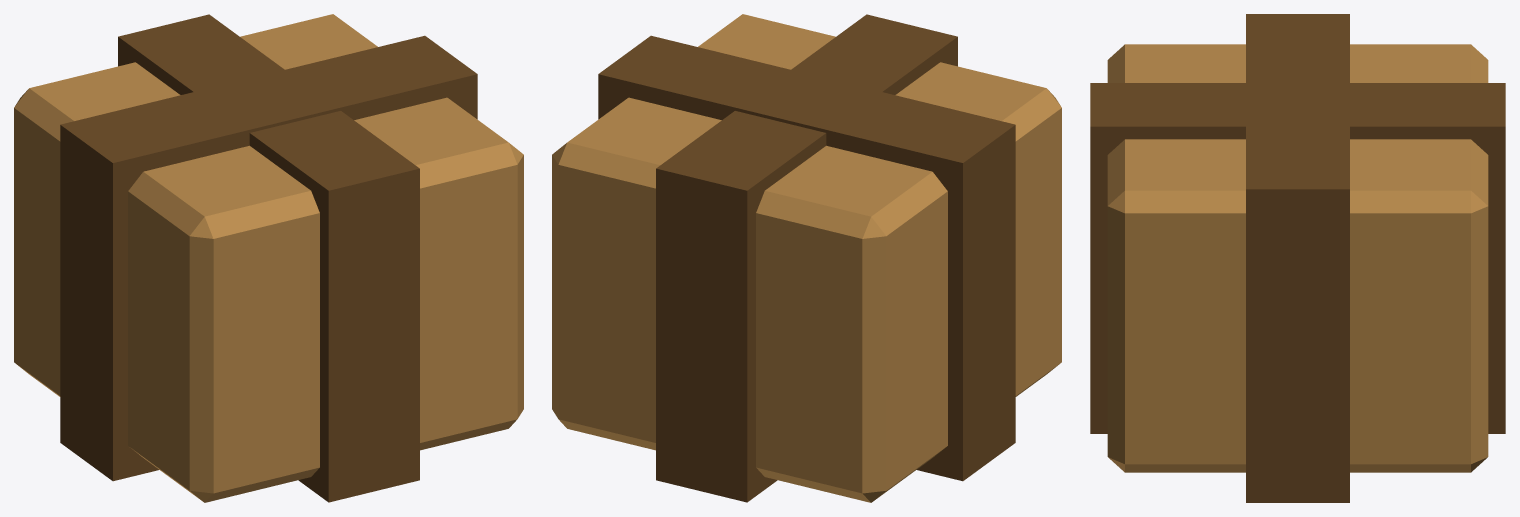
The model's file is crate.glb.
The picture shows the model from 3 angles, left to right: view 1: azimuth 30°, elevation 25°; view 2: azimuth 150°, elevation 25°; view 3: azimuth 270°, elevation 25°; orthographic projection.
Visible parts, largest first — view 1: crate; view 2: crate; view 3: crate.
Boxes of the visible parts, x1,y1,x2,y2 form: crate: [14, 14, 523, 502]; crate: [552, 14, 1061, 502]; crate: [1090, 14, 1505, 502].
Size of the model in its own units: 0.24 by 0.2 by 0.24.
